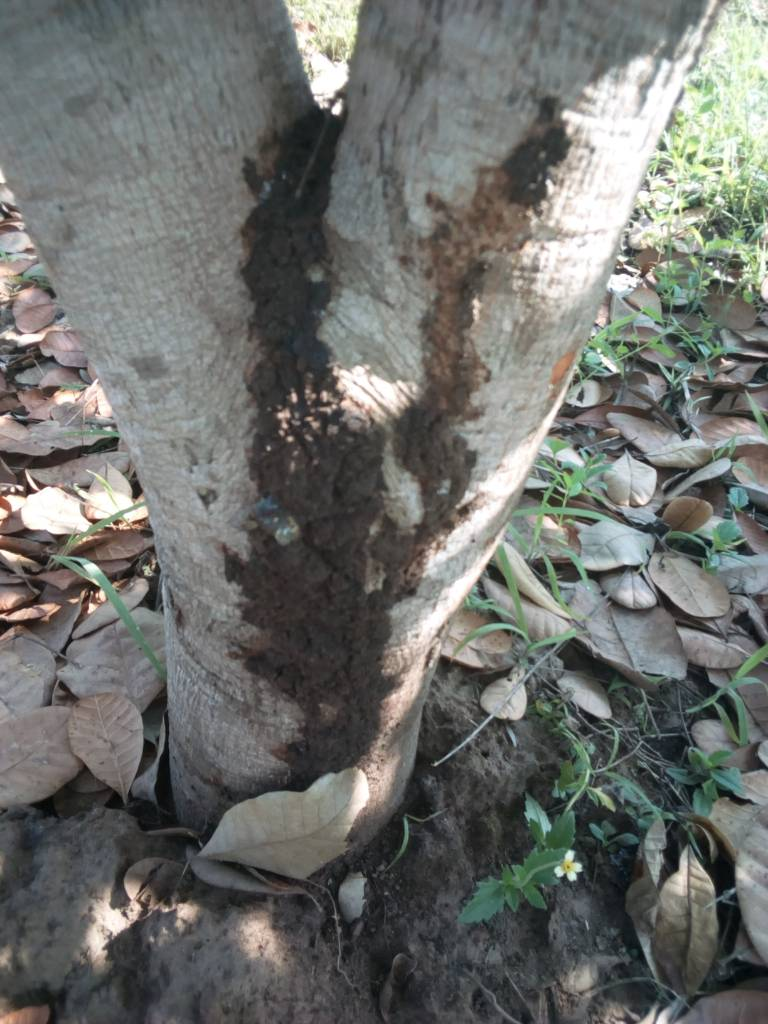Virose: (207, 454, 486, 789), (210, 111, 417, 450)
